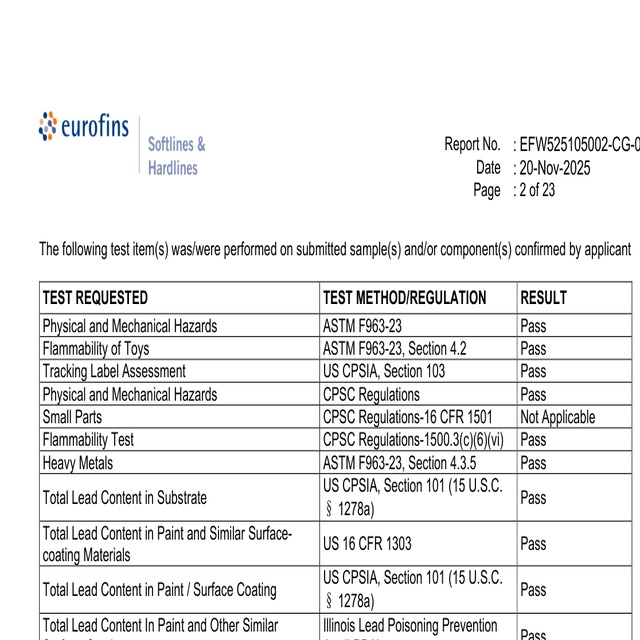eurofins: (35, 108, 132, 146)
